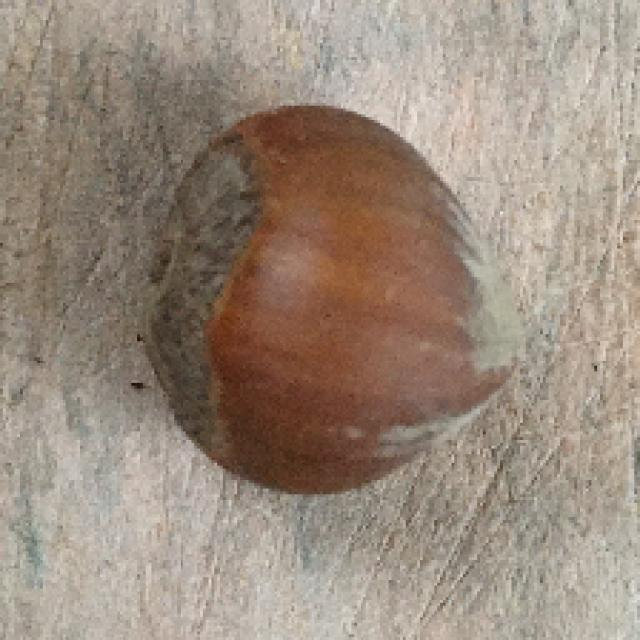qualityHazelnut: (143, 97, 545, 515)
